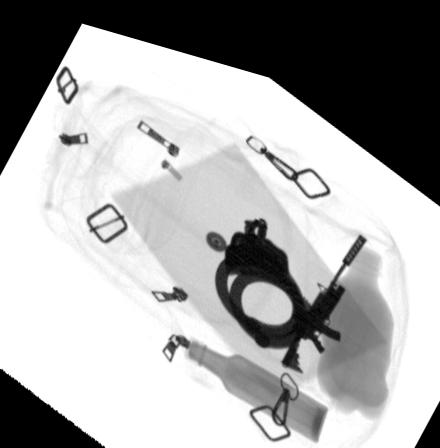Gun: (278, 210, 369, 360)
HandCuffs: (212, 202, 321, 335)
